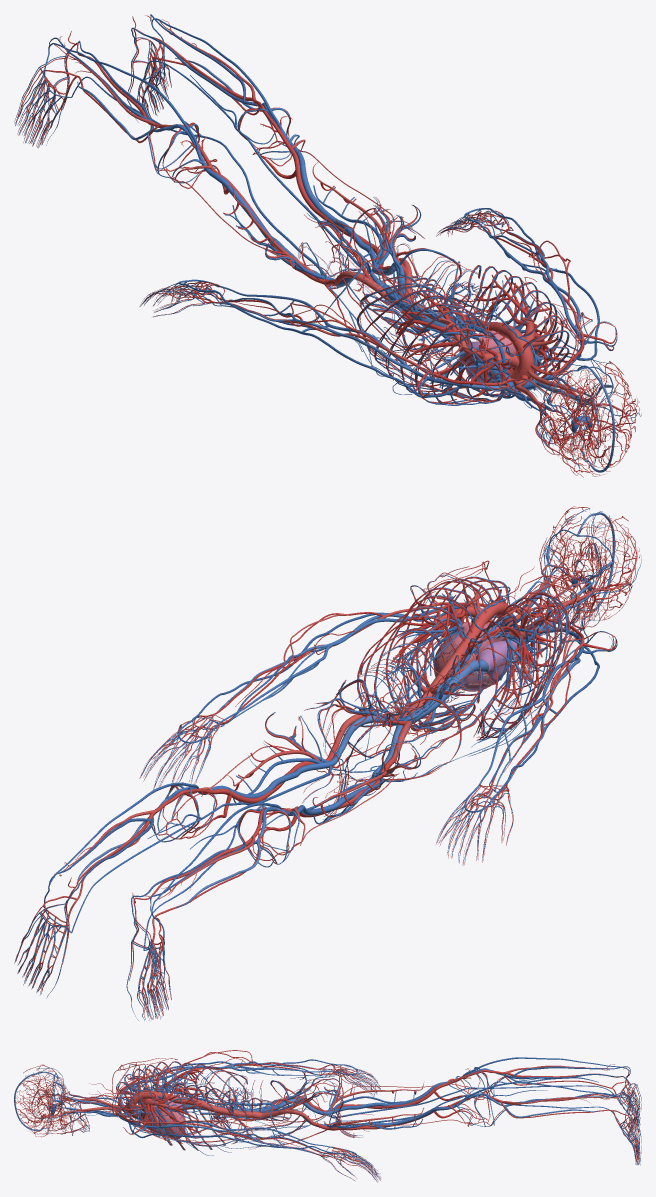
File: cardiovascular.glb
The picture shows the model from 3 angles, top to bottom: view 1: azimuth 30°, elevation 25°; view 2: azimuth 150°, elevation 25°; view 3: azimuth 270°, elevation 25°; orthographic projection. The views are drawn at different scales.
Visible parts, largest first — view 1: 右肋间上静脉, 右侧肋间后动脉, 左肋间上静脉, 左侧肋间后动脉, 左侧大隐静脉, 右侧头静脉, 左侧股静脉, 右侧大隐静脉; view 2: 右侧肋间后动脉, 左侧肋间后动脉, 右肋间上静脉, 左肋间上静脉, 左侧大隐静脉, 右心房, 胸主动脉, 左侧股静脉; view 3: 左肋间上静脉, 左侧肋间后动脉, 右肋间上静脉, 右侧肋间后动脉, 右侧大隐静脉, 左侧大隐静脉, 右侧股静脉, 左侧头静脉, 腹主动脉, 左心室, 右侧贵要静脉, 左侧小隐静脉 (+17 smaller).
Part boxes in pixels (box(x1,y1,x2,y2)): 右肋间上静脉: box(358, 283, 513, 405); 右侧肋间后动脉: box(356, 283, 526, 404); 左肋间上静脉: box(465, 265, 569, 395); 左侧肋间后动脉: box(462, 265, 568, 394); 左侧大隐静脉: box(143, 60, 372, 273); 右侧头静脉: box(192, 287, 461, 397); 左侧股静脉: box(300, 165, 384, 275); 右侧大隐静脉: box(71, 76, 327, 276); 右侧肋间后动脉: box(454, 592, 568, 740); 左侧肋间后动脉: box(357, 577, 508, 718); 右肋间上静脉: box(460, 591, 569, 742); 左肋间上静脉: box(358, 576, 528, 718); 左侧大隐静脉: box(71, 766, 331, 932); 右心房: box(476, 640, 516, 684); 胸主动脉: box(453, 601, 504, 659); 左侧股静脉: box(228, 751, 341, 798); 左肋间上静脉: box(114, 1084, 246, 1150); 左侧肋间后动脉: box(125, 1084, 248, 1150); 右肋间上静脉: box(116, 1061, 247, 1134); 右侧肋间后动脉: box(125, 1061, 248, 1132); 右侧大隐静脉: box(328, 1077, 621, 1118); 左侧大隐静脉: box(342, 1090, 620, 1126); 右侧股静脉: box(316, 1087, 432, 1115); 左侧头静脉: box(128, 1122, 336, 1153); 腹主动脉: box(196, 1099, 261, 1118); 左心室: box(158, 1105, 185, 1138); 右侧贵要静脉: box(160, 1065, 331, 1080); 左侧小隐静脉: box(462, 1082, 630, 1111).
Size of the model in its own units: 0.9779 by 0.3667 by 2.5.
